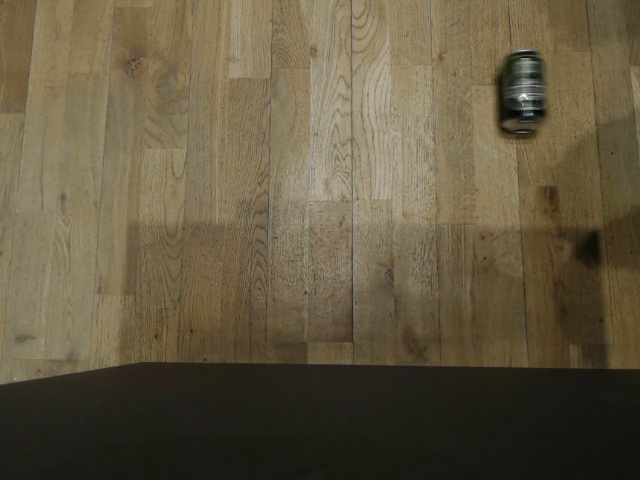beer: (494, 47, 551, 138)
